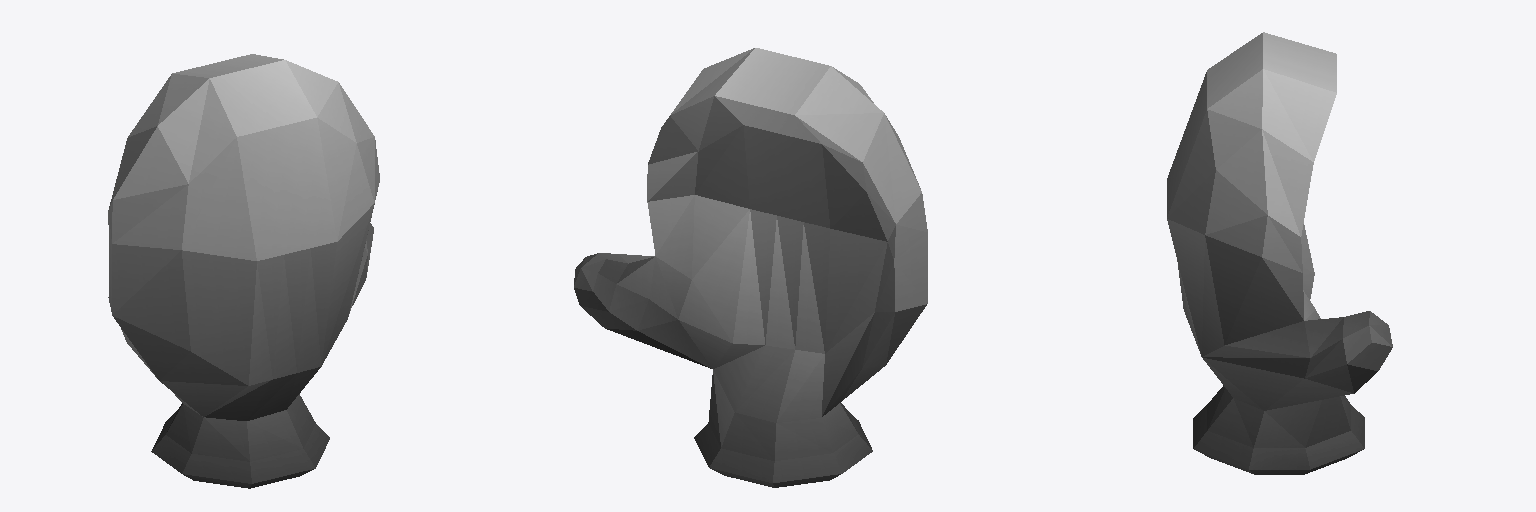
The picture shows the model from 3 angles: view 1: azimuth 30°, elevation 25°; view 2: azimuth 150°, elevation 25°; view 3: azimuth 270°, elevation 25°; orthographic projection.
Parts seen in each view (by area): view 1: Cube, Cube.001; view 2: Cube, Cube.001; view 3: Cube, Cube.001.
Part boxes in pixels (x1,y1,x2,y2): Cube: (108, 54, 379, 488); Cube.001: (108, 54, 379, 488); Cube: (574, 48, 927, 487); Cube.001: (574, 48, 927, 487); Cube: (1167, 32, 1392, 474); Cube.001: (1167, 33, 1391, 474).
Bounding box in the file's own units: 2.12 × 2.63 × 1.37.
2 materials, 1 textured.